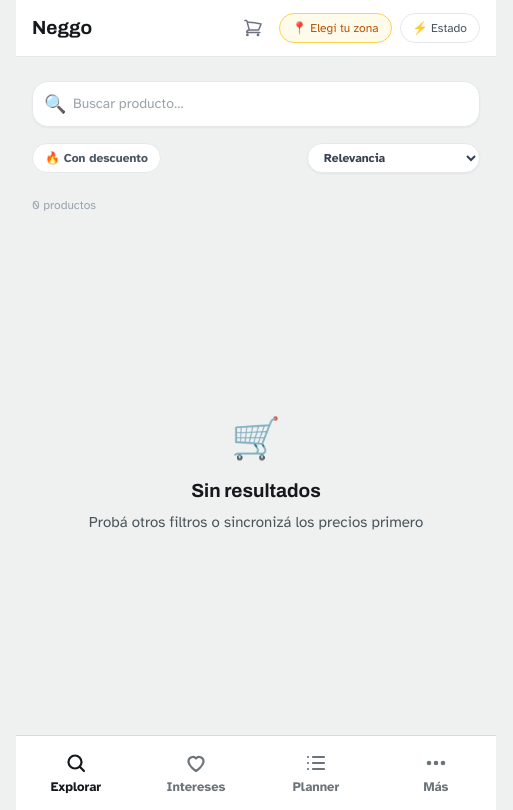
Test: C2 — useNav › host + comparador: barra con 3 items + "Más", y Comparar en la pantalla "Más"
Click the link "Más" at (436, 772), box [424,750,449,794]
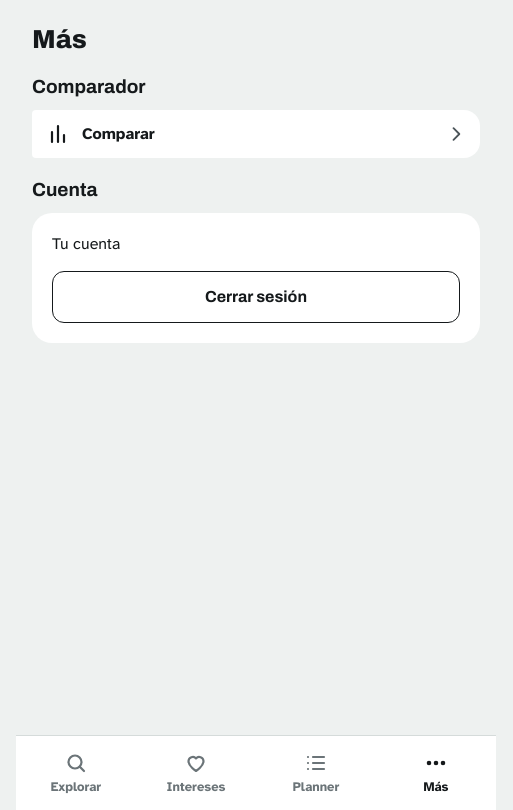
Expected: the heading "Más" is shown, [32,24,87,55]
Expected: the button "Comparar" is shown, [32,110,480,158]
